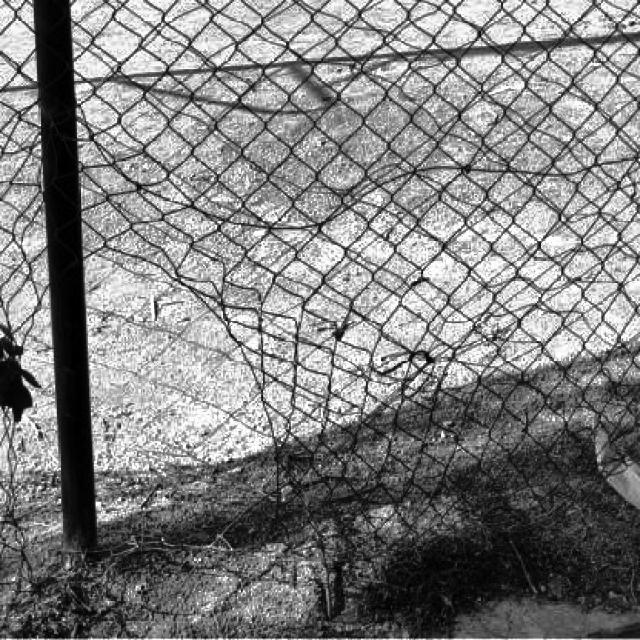anomaly-fence: (13, 135, 640, 524)
